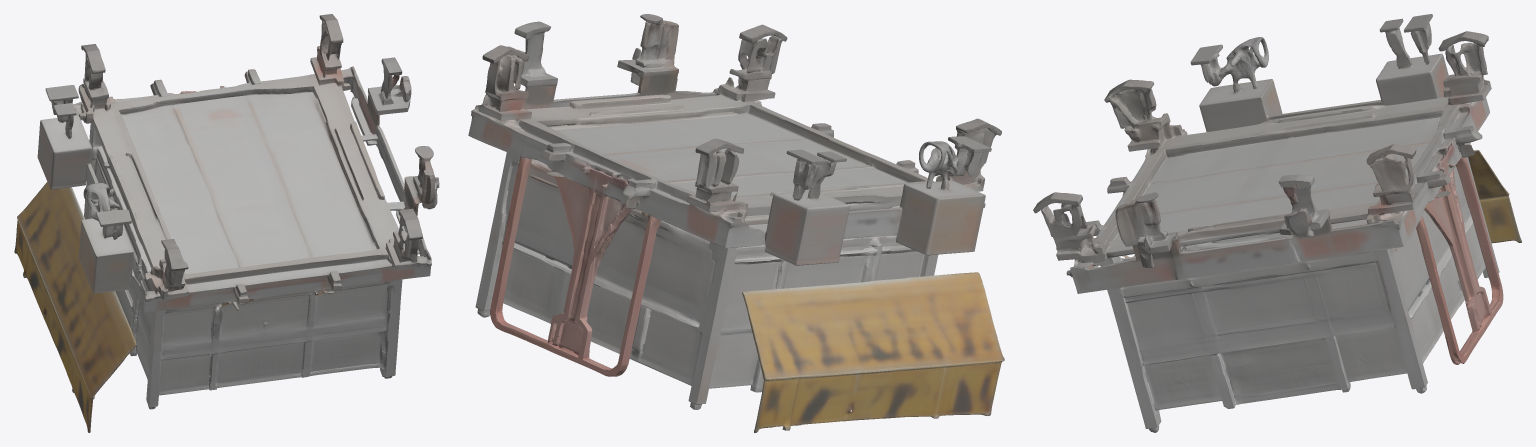
File: cart-single.glb
The picture shows the model from 3 angles, left to right: view 1: azimuth 30°, elevation 25°; view 2: azimuth 150°, elevation 25°; view 3: azimuth 270°, elevation 25°; orthographic projection. The views are drawn at different scales.
Visible parts, largest first — view 1: world; view 2: world; view 3: world.
Part boxes in pixels (x1,y1,x2,y2): world: (14, 14, 439, 432); world: (468, 14, 1004, 432); world: (1033, 14, 1521, 432).
Size of the model in its own units: 2.68 by 1.97 by 2.72.
